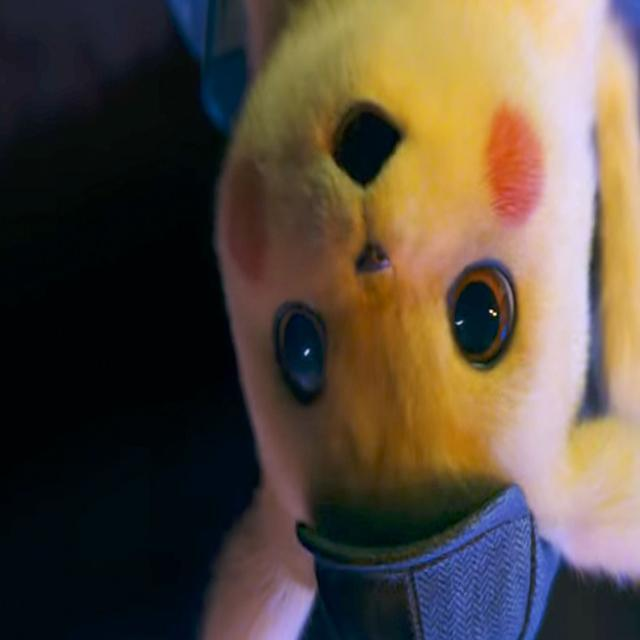Pikachu: (204, 22, 576, 606)
